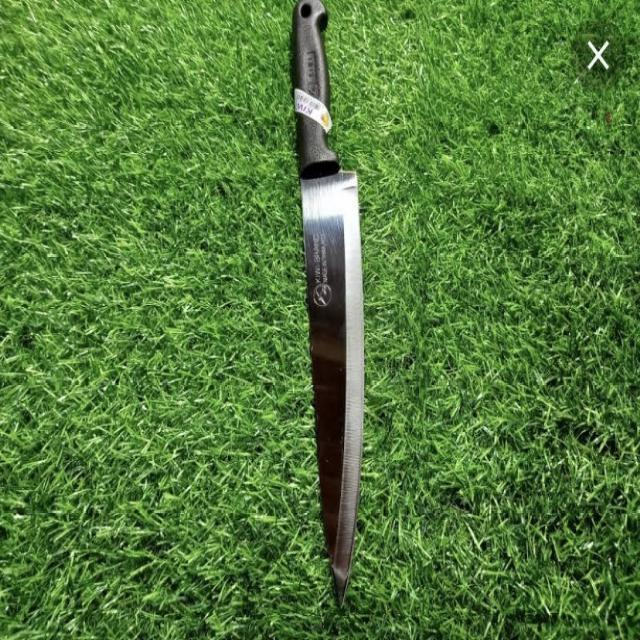Knife: (255, 0, 410, 615)
